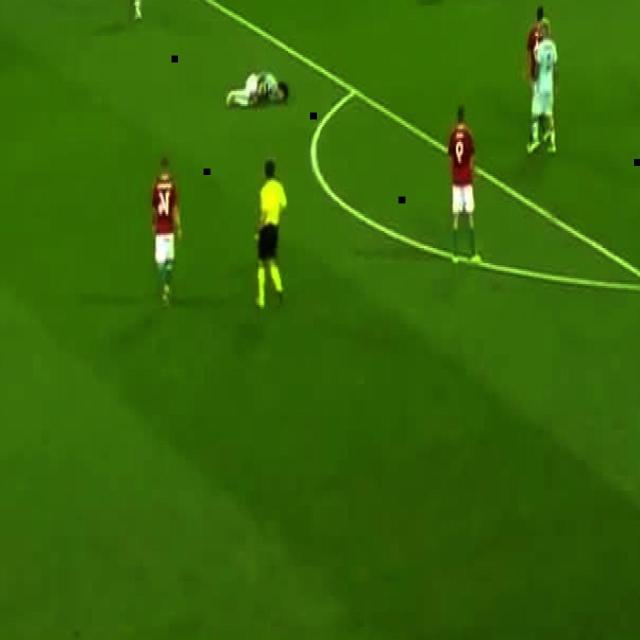player-white: (448, 108, 482, 262), (254, 158, 288, 308), (152, 156, 182, 308), (528, 18, 558, 156), (528, 5, 551, 144), (226, 70, 288, 108), (125, 0, 151, 21)
